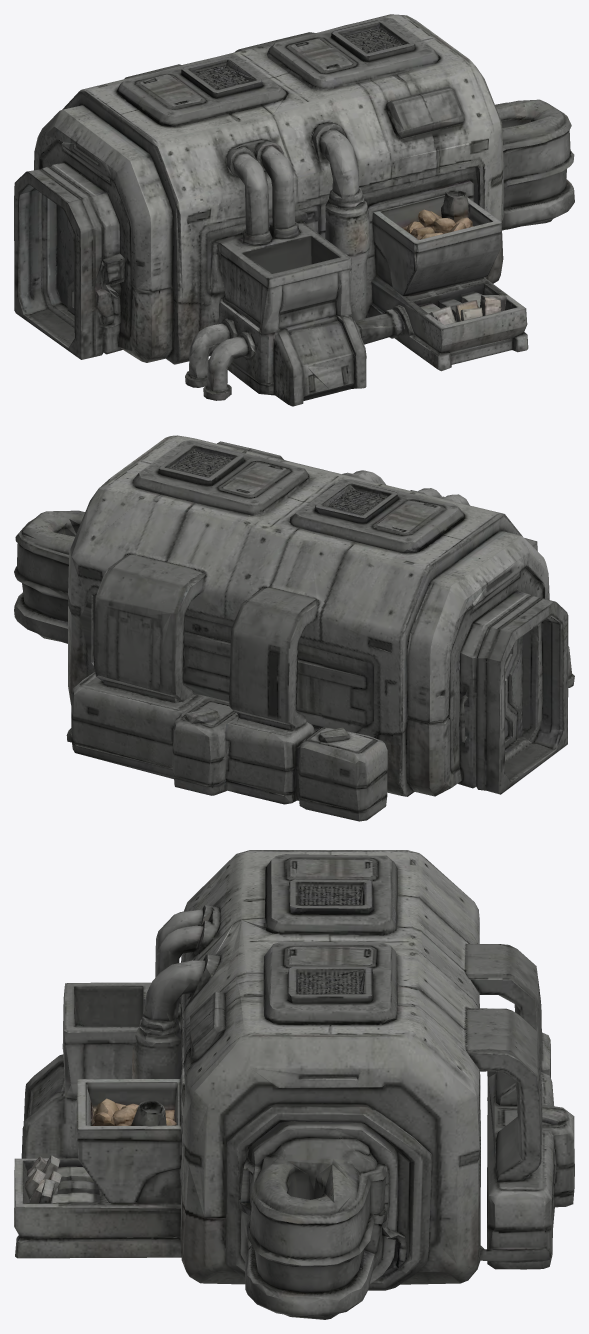
The model's file is conv.food_processor.glb.
3 renders of one model, top to bottom at view 1: azimuth 30°, elevation 25°; view 2: azimuth 150°, elevation 25°; view 3: azimuth 270°, elevation 25°, orthographic. The views are drawn at different scales.
Parts seen in each view (by area): view 1: body; view 2: body; view 3: body.
Part boxes in pixels (x1,y1,x2,y2): body: (14, 14, 574, 406); body: (14, 435, 574, 821); body: (14, 850, 574, 1319).
Size of the model in its own units: 2 by 0.8446 by 1.6.
Materials: 1 (1 with a texture image).
